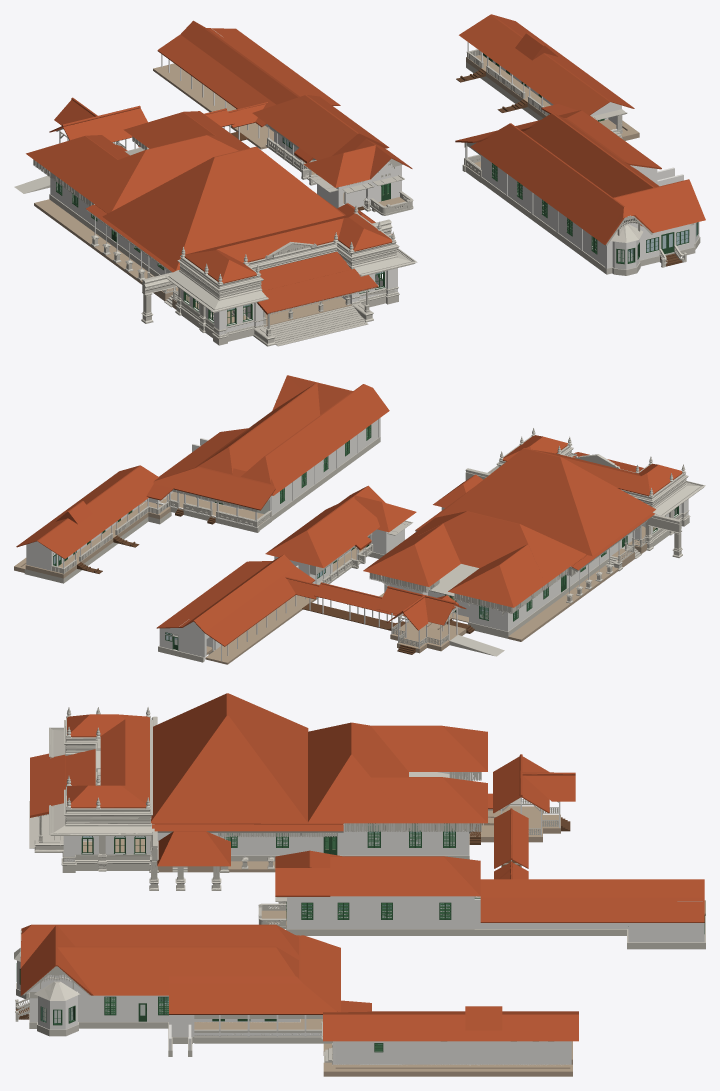
3 views of the same model, one above another, from view 1: azimuth 30°, elevation 25°; view 2: azimuth 150°, elevation 25°; view 3: azimuth 270°, elevation 25° (orthographic). The views are drawn at different scales.
Parts seen in each view (by area): view 1: atap, kaca; view 2: atap; view 3: atap, kaca.
Boxes of the visible parts, <box> form: atap: <box>14,14,705,346</box>; kaca: <box>60,138,697,310</box>; atap: <box>14,375,705,664</box>; atap: <box>14,693,705,1076</box>; kaca: <box>41,824,454,1044</box>.
Bounding box in the file's own units: 81.41 × 17.45 × 79.05.
2 materials, 2 textured.
